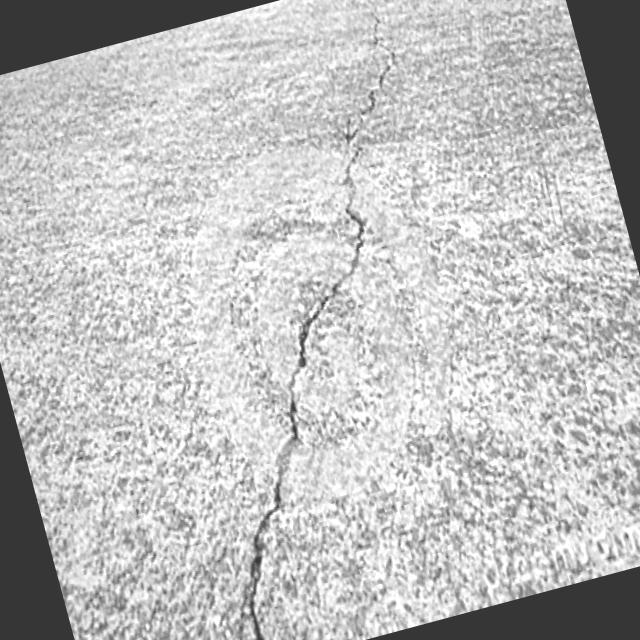crack: (130, 180, 470, 640), (300, 0, 424, 182)
